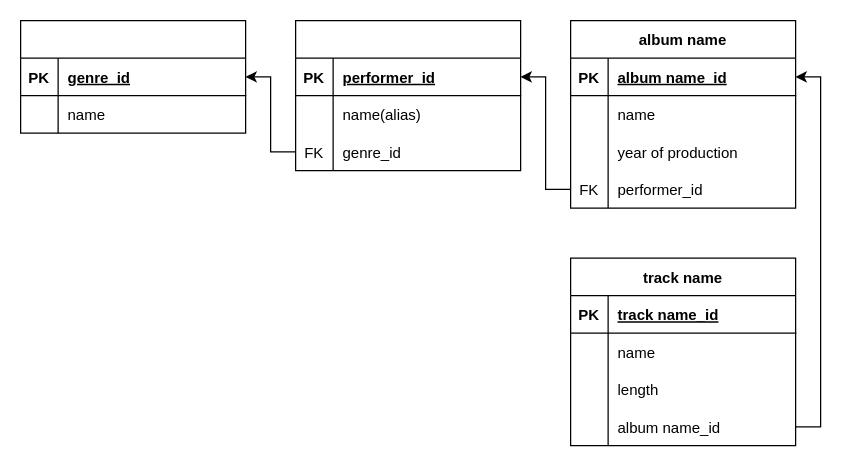
Some shapes in this 841 by 466 pixel diagram are drawn without their labels. Each missing label, with the box of its shape:
musical genres: (19, 19, 246, 133)
performers: (294, 19, 521, 171)
